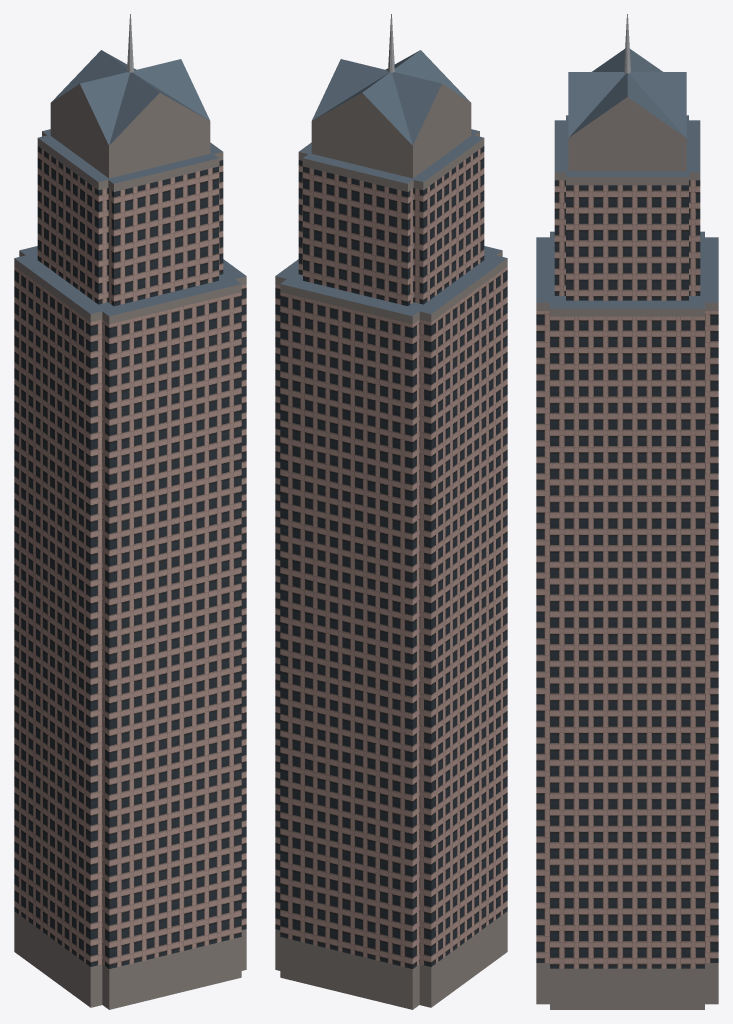
File: gen_tall_pomo_granite.glb
The picture shows the model from 3 angles, left to right: view 1: azimuth 30°, elevation 25°; view 2: azimuth 150°, elevation 25°; view 3: azimuth 270°, elevation 25°; orthographic projection.
Parts seen in each view (by area): view 1: gen_tall_pomo_granite; view 2: gen_tall_pomo_granite; view 3: gen_tall_pomo_granite.
Boxes of the visible parts, x1,y1,x2,y2 form: gen_tall_pomo_granite: (14, 14, 246, 1009); gen_tall_pomo_granite: (275, 14, 507, 1009); gen_tall_pomo_granite: (536, 14, 718, 1009).
Bounding box in the file's own units: 40 × 232 × 40.
2 materials, 2 textured.
